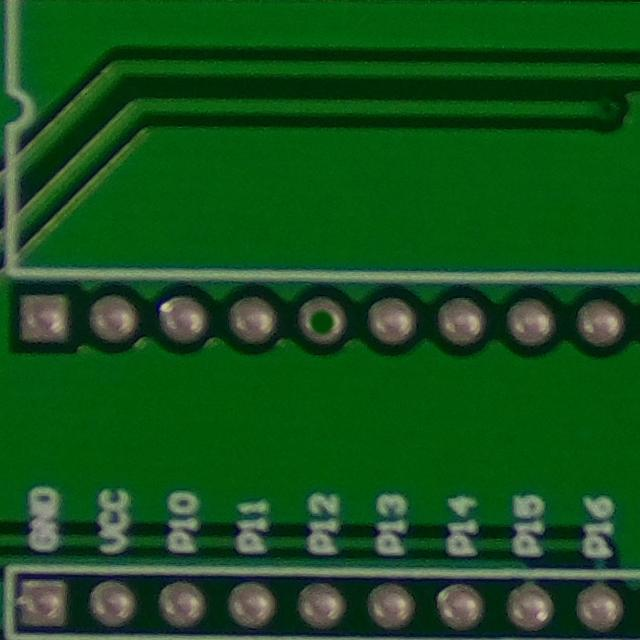missing_hole: (287, 279, 358, 355)
